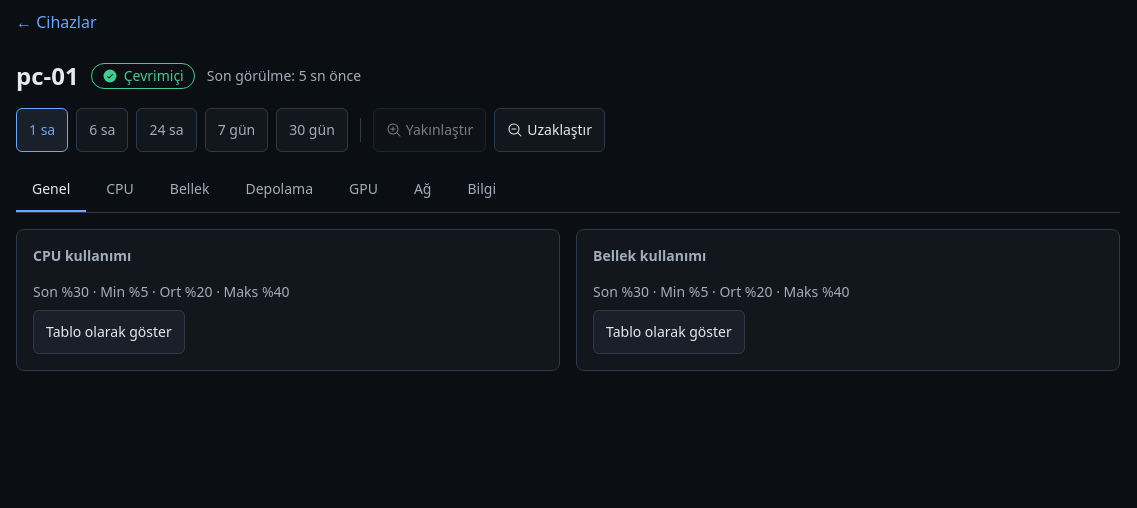
Test: sekmeler ve metrik kesfi › Bilgi: device_info alanlari METIN olarak; null ise 'Cihaz bilgisi yok'
The image size is (1137, 508).
Expected: the element showing "Genel CPU Bellek Depolama GPU Ağ Bilgi" is shown, [16,168,1120,213]
What coordinates should you click on to do the following:
click the tab "Bilgi"
I would click on:
 (482, 190)
Its box is [452,168,512,212].
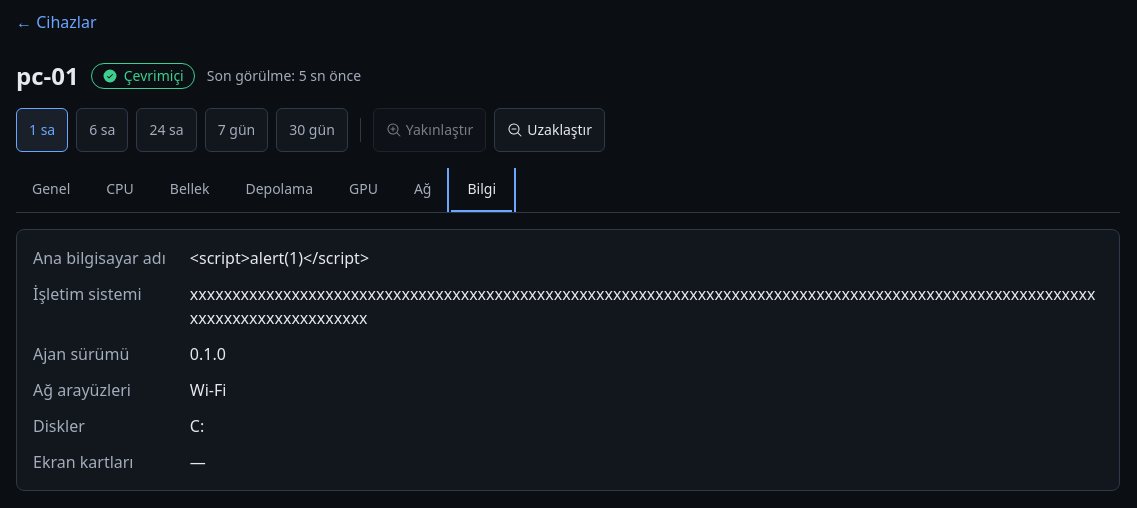
Expected: the text "<script>alert(1)</script>" is shown, [190,247,369,269]
Expected: the text "0.1.0" is shown, [190,343,226,365]
